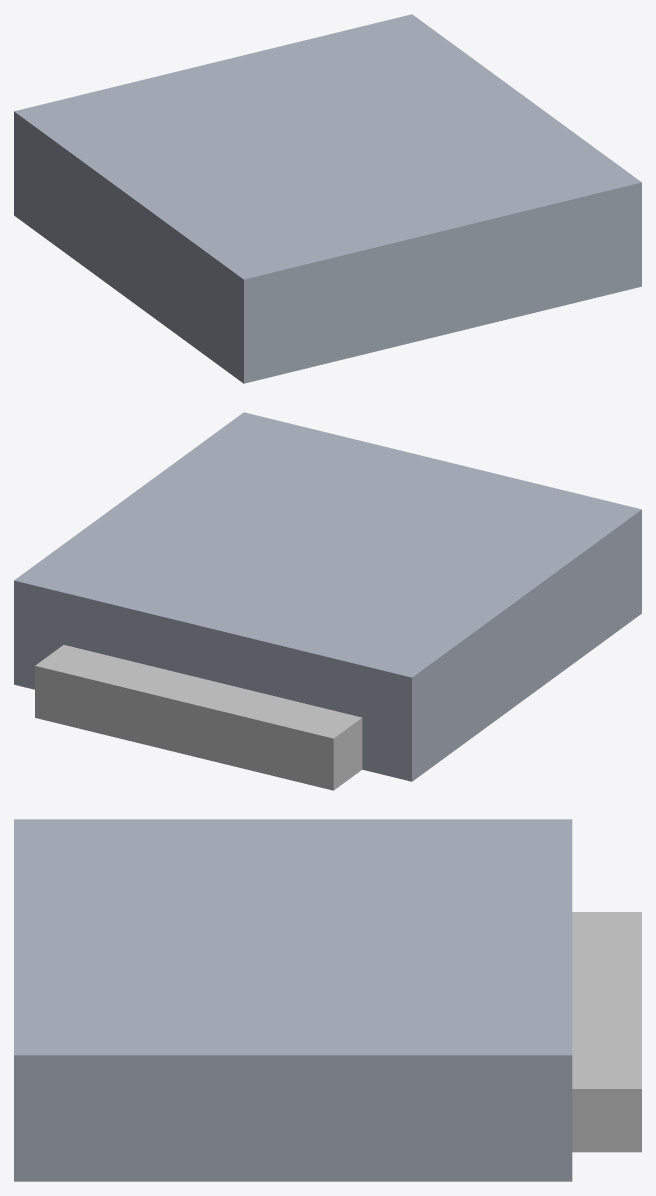
File: cell_43.obj
3 renders of one model, top to bottom at view 1: azimuth 30°, elevation 25°; view 2: azimuth 150°, elevation 25°; view 3: azimuth 270°, elevation 25°, orthographic. The views are drawn at different scales.
Bounding box in the file's own units: 0.5 × 0.125 × 0.5625.
